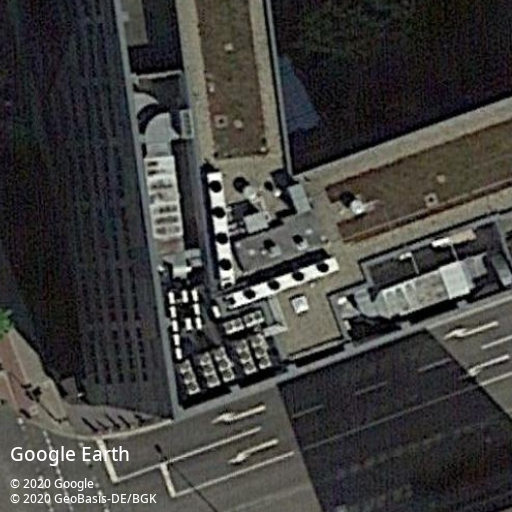Chiller: (233, 256, 338, 308), (204, 171, 236, 285), (178, 358, 202, 396), (214, 345, 237, 383), (236, 339, 258, 375), (199, 351, 220, 388), (251, 334, 272, 371), (223, 317, 243, 335), (243, 310, 264, 327)
